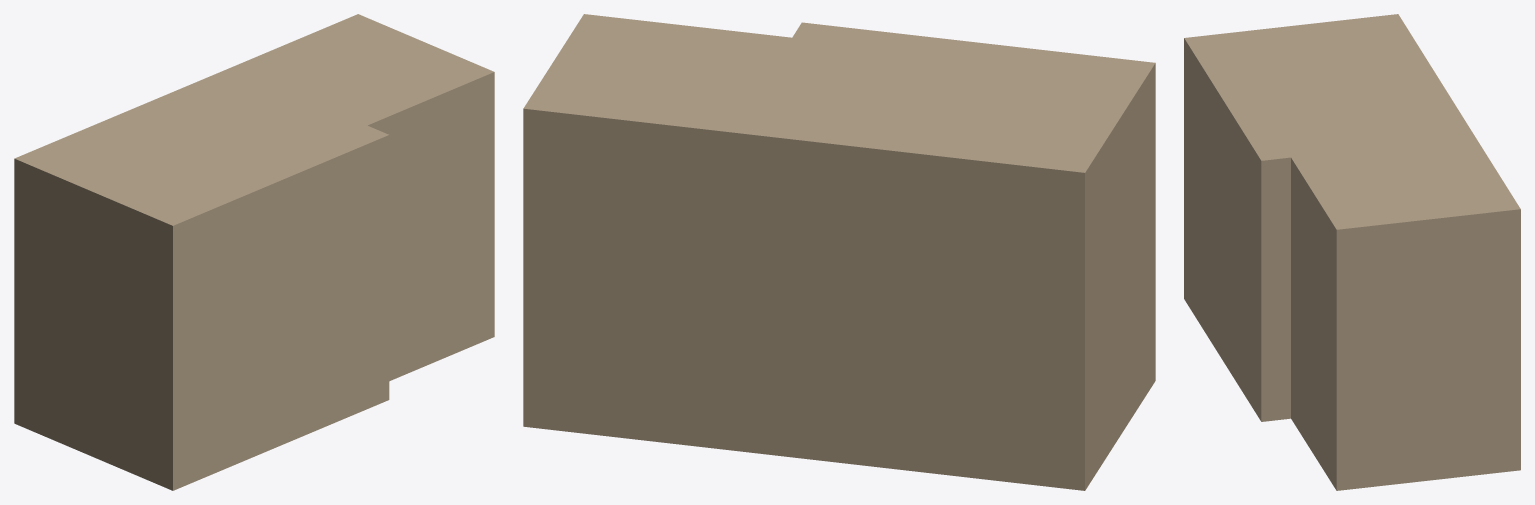
File: bld_99872050.dae
3 renders of one model, left to right at view 1: azimuth 30°, elevation 25°; view 2: azimuth 150°, elevation 25°; view 3: azimuth 270°, elevation 25°, orthographic. The views are drawn at different scales.
Parts seen in each view (by area): view 1: bld_99872050; view 2: bld_99872050; view 3: bld_99872050.
Part boxes in pixels (x1=…): bld_99872050: x1=14, y1=14, x2=494, y2=490; bld_99872050: x1=523, y1=14, x2=1155, y2=490; bld_99872050: x1=1184, y1=14, x2=1520, y2=490.
Bounding box in the file's own units: 14.18 × 9.35 × 8.
